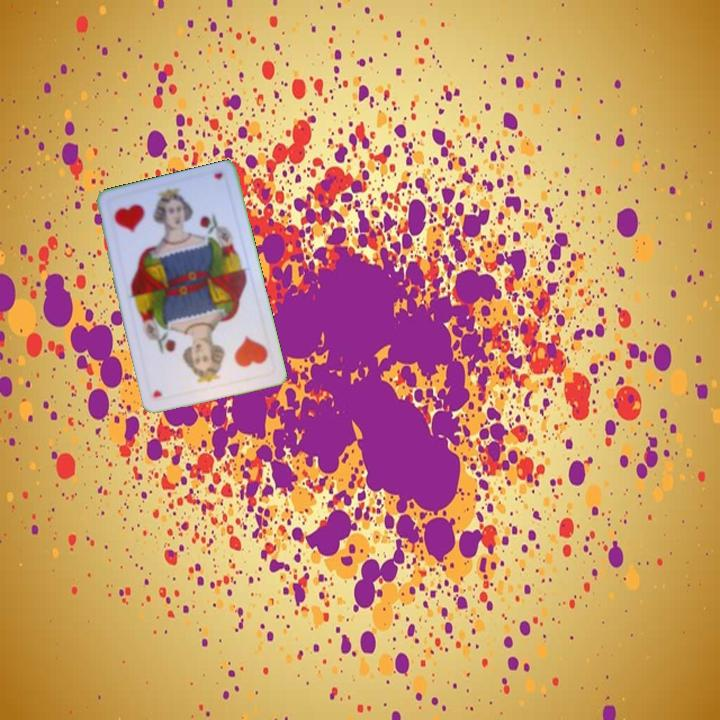h_q.png: (103, 185, 181, 256), (199, 319, 276, 390)
